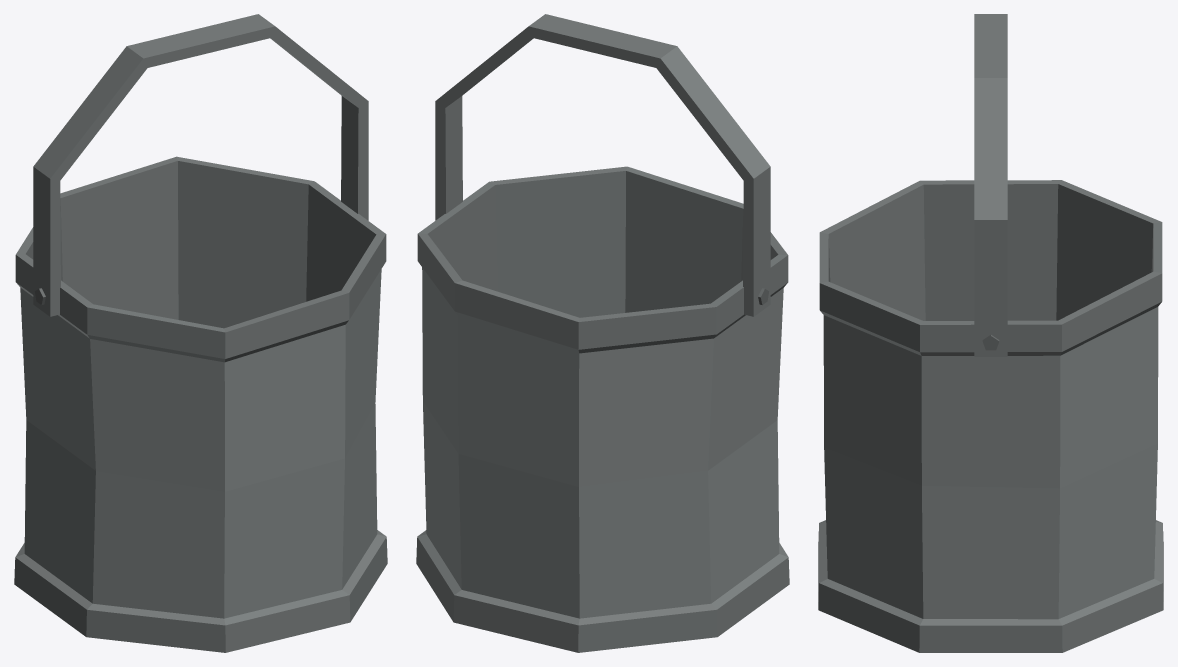
Rendered from SM_Props_Farm_Bucket_Steel.fbx.
The picture shows the model from 3 angles, left to right: view 1: azimuth 30°, elevation 25°; view 2: azimuth 150°, elevation 25°; view 3: azimuth 270°, elevation 25°; orthographic projection.
Visible parts, largest first — view 1: SM_Props_Farm_Bucket_Steel, SM_Props_Farm_Bucket_Steel_Handle; view 2: SM_Props_Farm_Bucket_Steel, SM_Props_Farm_Bucket_Steel_Handle; view 3: SM_Props_Farm_Bucket_Steel, SM_Props_Farm_Bucket_Steel_Handle.
Part boxes in pixels (x1=…): SM_Props_Farm_Bucket_Steel: x1=14, y1=156, x2=387, y2=652; SM_Props_Farm_Bucket_Steel_Handle: x1=33, y1=14, x2=368, y2=316; SM_Props_Farm_Bucket_Steel: x1=416, y1=166, x2=789, y2=652; SM_Props_Farm_Bucket_Steel_Handle: x1=435, y1=14, x2=770, y2=316; SM_Props_Farm_Bucket_Steel: x1=818, y1=180, x2=1163, y2=652; SM_Props_Farm_Bucket_Steel_Handle: x1=974, y1=14, x2=1007, y2=356.
Bounding box in the file's own units: 61.53 × 97.6 × 57.23.
